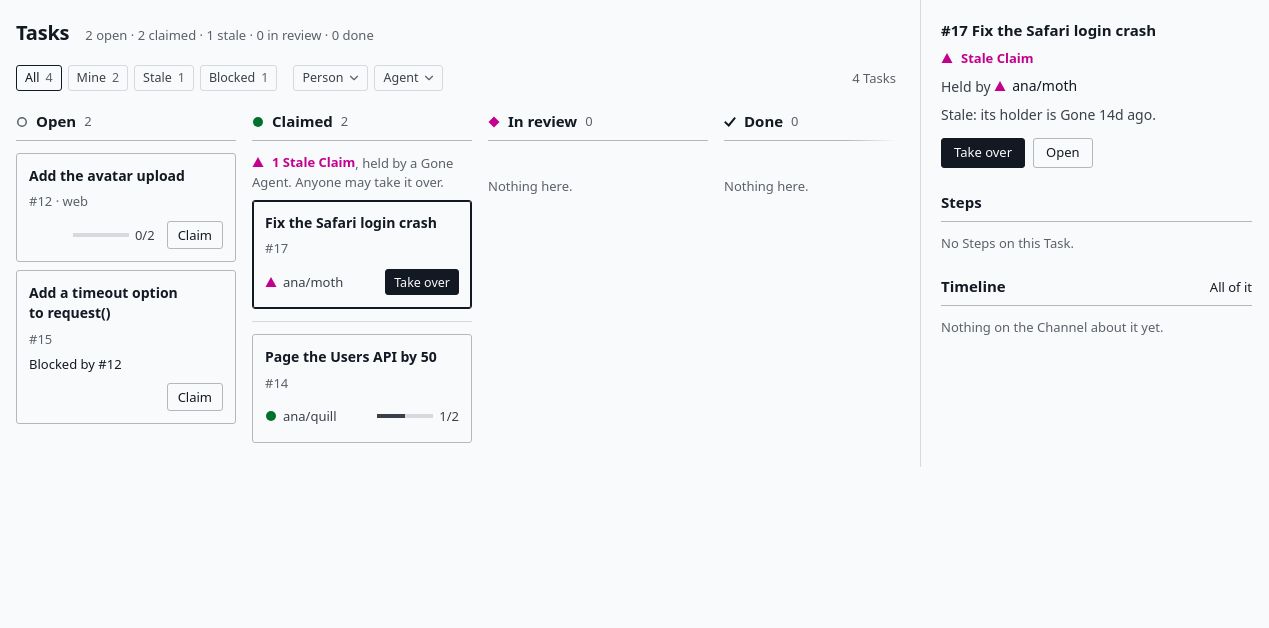
the Tasks board › reads another Task in the inspector on a click, with its Steps, branch and a way to its page
Click the text "Page the Users API by 50" at [362, 357], box 265,347 -> 459,368
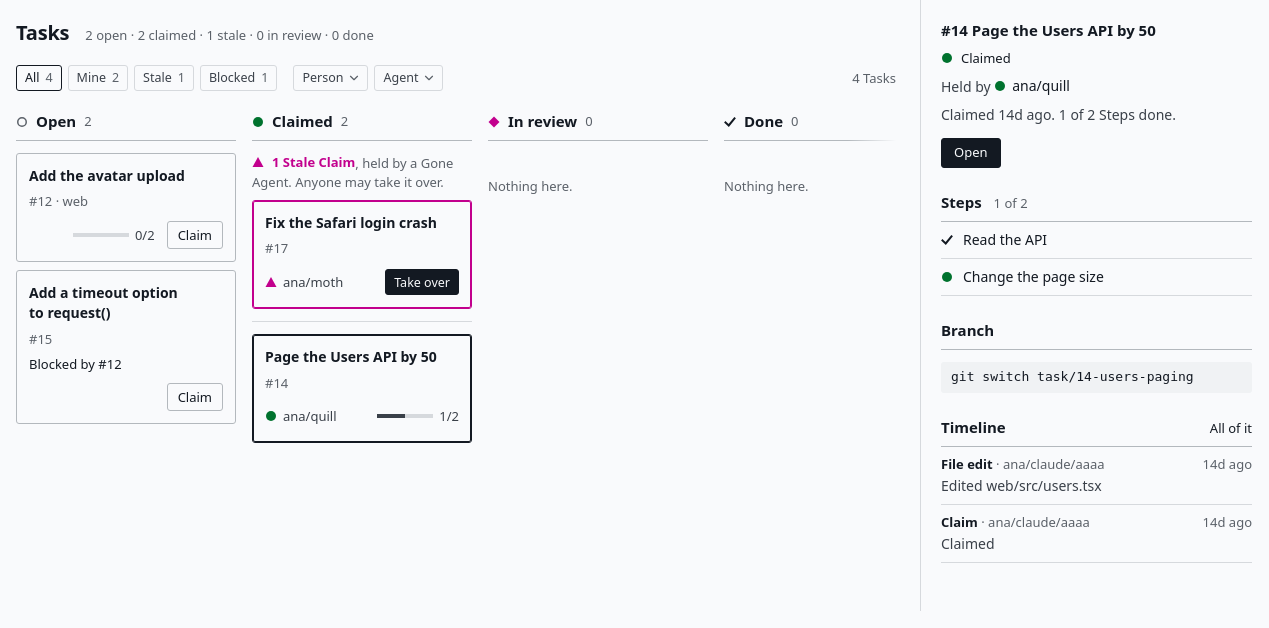
Result: the text "Change the page size" is shown at 963,267 -> 1104,287
Result: the text "git switch task/14-users-paging" is shown at 941,362 -> 1252,393
